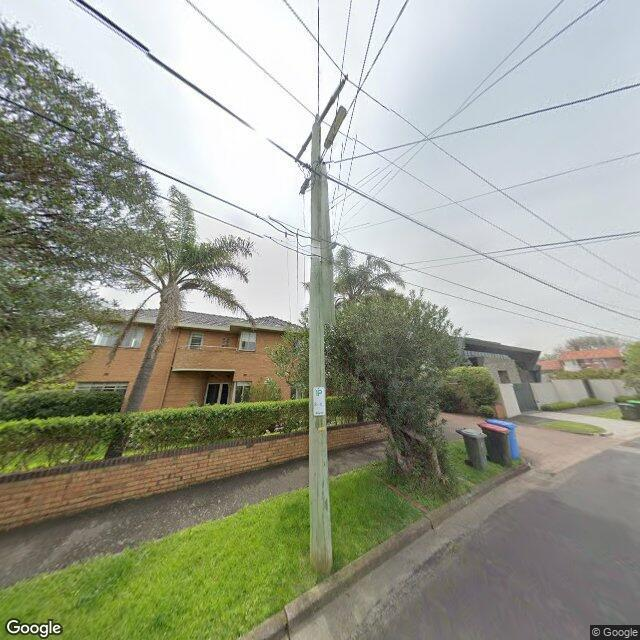HV-transmission: (294, 74, 348, 163)
crossarm: (304, 79, 346, 146)
streetlight: (320, 105, 348, 163)
timber-pole: (310, 124, 332, 578)
